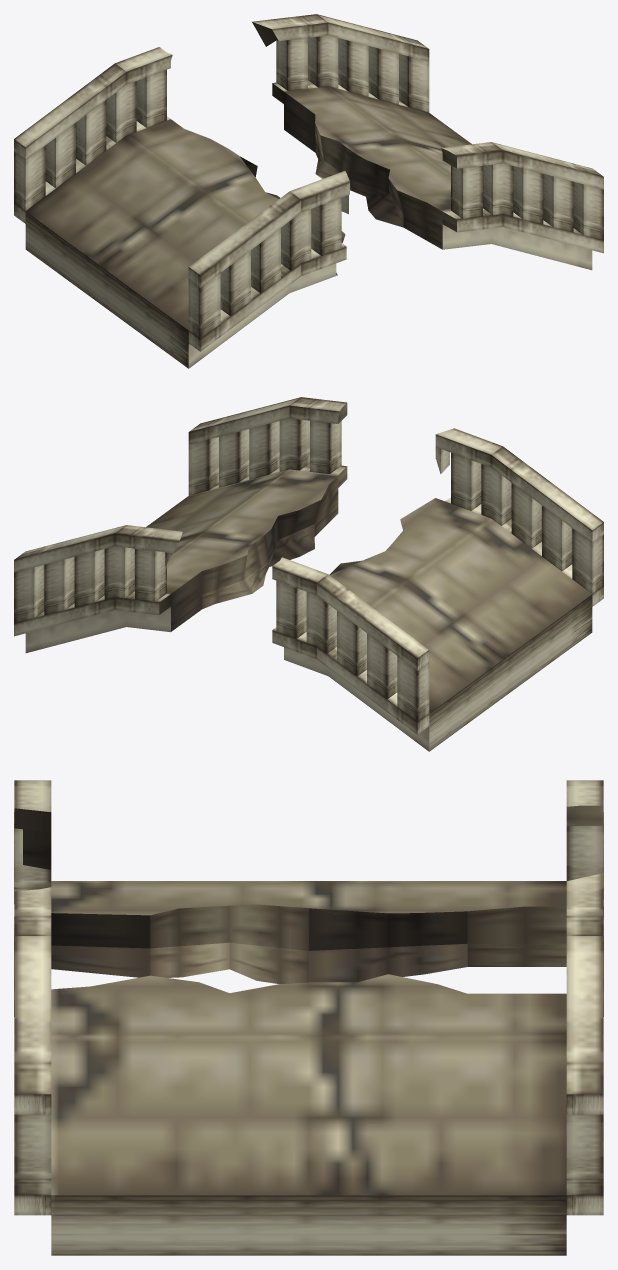
Rendered from Poly_World_Map_Bridge_01_Broken.obj.
The picture shows the model from 3 angles, top to bottom: view 1: azimuth 30°, elevation 25°; view 2: azimuth 150°, elevation 25°; view 3: azimuth 270°, elevation 25°; orthographic projection. The views are drawn at different scales.
Visible parts, largest first — view 1: Grid.002, Grid.003, Grid.001, Grid.004; view 2: Grid.002, Grid.003, Grid.001, Grid.004; view 3: Grid.002, Grid.001, Grid.003, Grid.004.
Boxes of the visible parts, left/top/right/bottom form: Grid.002: left=25, top=86, right=592, bottom=368; Grid.003: left=14, top=35, right=603, bottom=338; Grid.001: left=14, top=14, right=603, bottom=351; Grid.004: left=136, top=34, right=482, bottom=255; Grid.002: left=25, top=469, right=592, bottom=751; Grid.003: left=14, top=418, right=603, bottom=721; Grid.001: left=14, top=397, right=603, bottom=734; Grid.004: left=135, top=421, right=481, bottom=638; Grid.002: left=51, top=881, right=566, bottom=1255; Grid.001: left=14, top=780, right=603, bottom=1215; Grid.003: left=14, top=1114, right=603, bottom=1195; Grid.004: left=14, top=812, right=603, bottom=1016.
Bounding box in the file's own units: 1.4 × 0.5341 × 1.12.
1 material, 1 textured.
